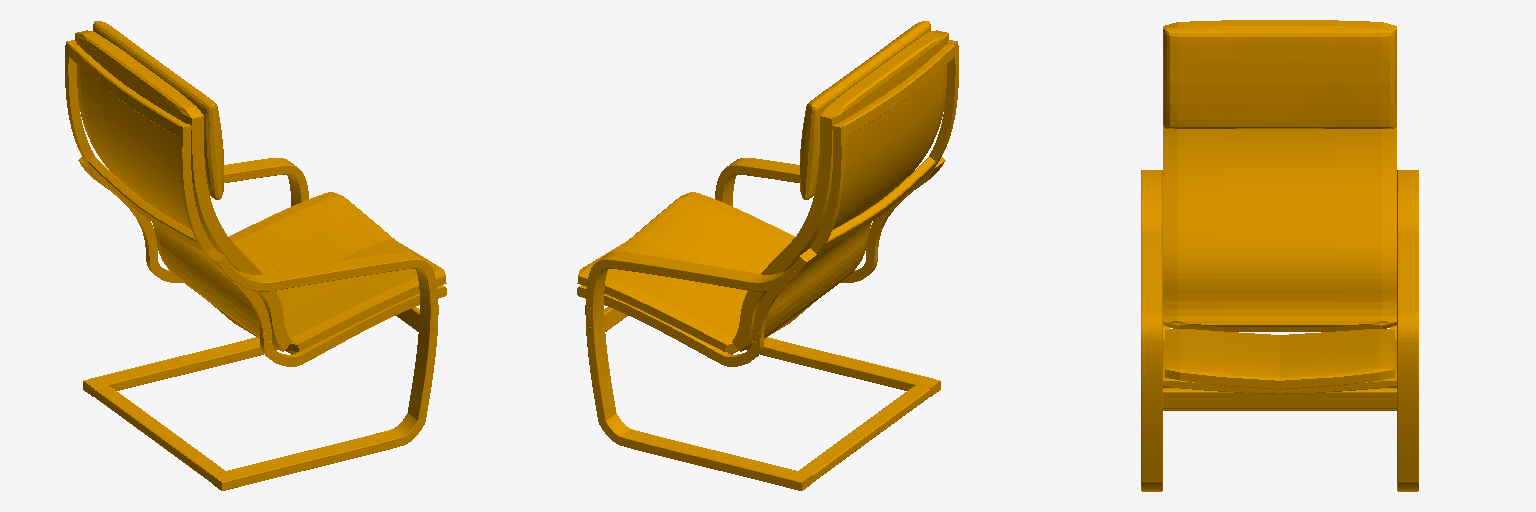
URDF robot description (myvK0jBl):
<?xml version='1.0' encoding='us-ascii'?>
<robot name="myvK0jBl">
   <link name="base_link">
      <visual>
         <origin xyz="0.0 0.0 0.0" />
         <geometry>
            <mesh filename="shape\visual\armchair-cehzwd-0.obj" />
         </geometry>
      </visual>
      <collision>
         <origin xyz="0.0 0.0 0.0" />
         <geometry>
            <mesh filename="shape\collision\armchair-cehzwd-0.obj" />
         </geometry>
      </collision>
   </link>
</robot>

--- What the picture shows (computed from the rendered views, not written in the file) ---
The picture shows the robot from 3 angles, left to right: view 1: azimuth 30°, elevation 25°; view 2: azimuth 150°, elevation 25°; view 3: azimuth 270°, elevation 25°; orthographic projection.
Model myvK0jBl with 1 links and 0 joints (none), rooted at base_link, posed all joints at 0.
Visible links, largest first — view 1: base_link; view 2: base_link; view 3: base_link.
Boxes of the visible links, box(x1,y1,x2,y2) form: base_link: box(65, 21, 446, 490); base_link: box(577, 21, 958, 490); base_link: box(1141, 20, 1418, 491).
Bounding box of the posed robot: 0.7974 × 0.6961 × 1.04 m (x, y, z).
1 mesh visuals loaded from 1 distinct referenced files (1 OBJ).
